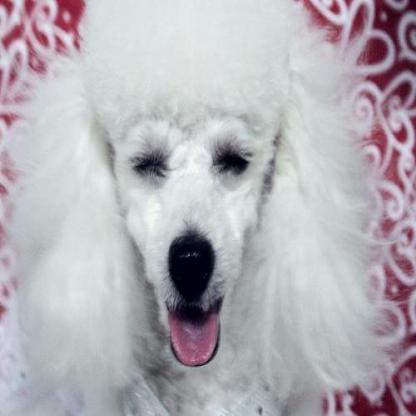toy_poodle: (2, 0, 402, 414)
